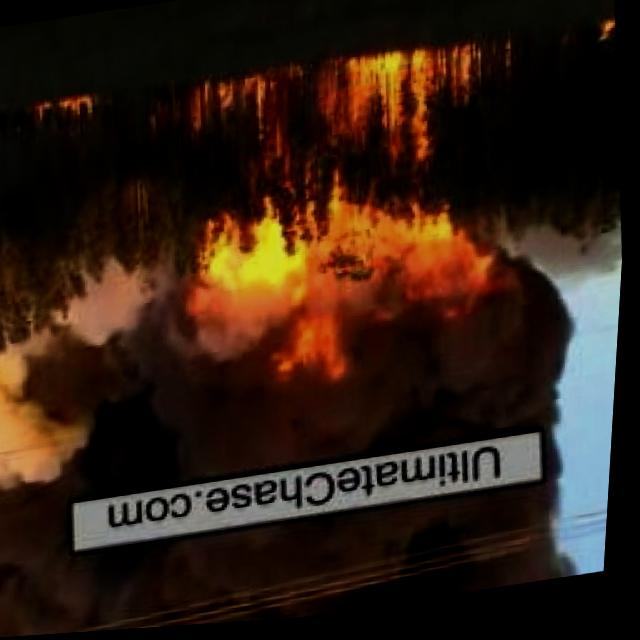Fire: (186, 48, 503, 400), (30, 90, 94, 127), (589, 24, 618, 55)
Smoke: (0, 271, 584, 510), (0, 483, 580, 639)
